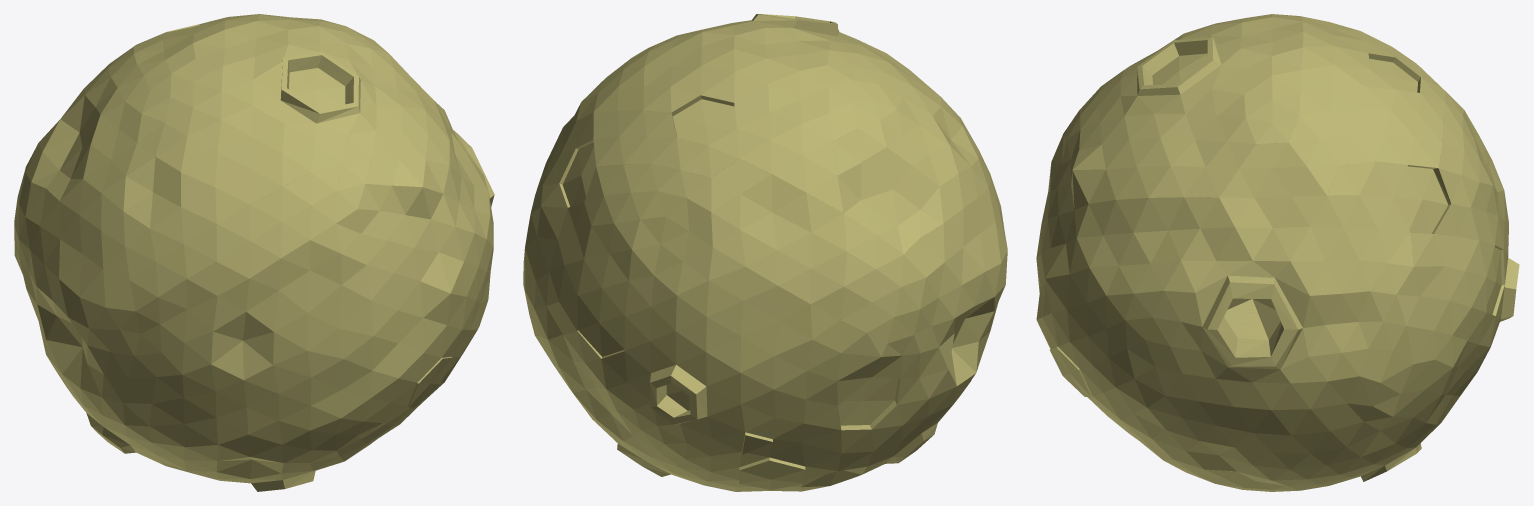
3 renders of one model, left to right at view 1: azimuth 30°, elevation 25°; view 2: azimuth 150°, elevation 25°; view 3: azimuth 270°, elevation 25°, orthographic.
Visible parts, largest first — view 1: node-0; view 2: node-0; view 3: node-0.
Part boxes in pixels (box(x1,y1,x2,y2)): node-0: box(14, 14, 494, 491); node-0: box(523, 14, 1007, 491); node-0: box(1036, 14, 1519, 491).
Bounding box in the file's own units: 315 × 303 × 309.
1 material, 1 textured.
